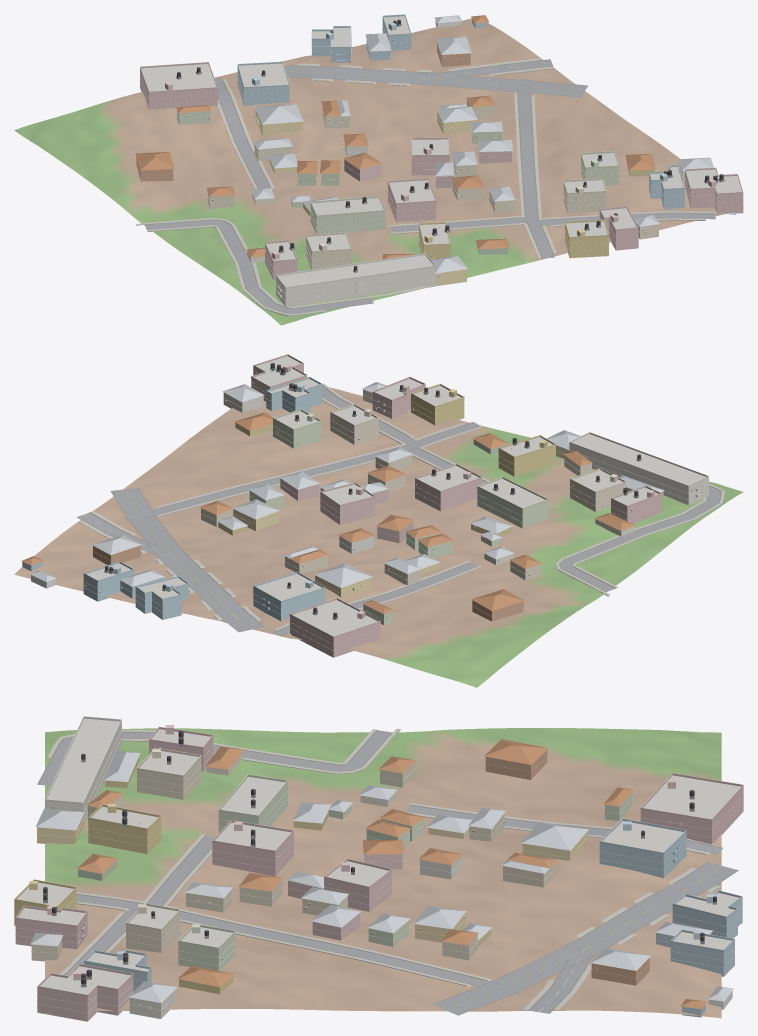
The picture shows the model from 3 angles, top to bottom: view 1: azimuth 30°, elevation 25°; view 2: azimuth 150°, elevation 25°; view 3: azimuth 270°, elevation 25°; orthographic projection. The views are drawn at different scales.
Parts seen in each view (by area): view 1: Terrain-col, Buildings-col, Roads-col, Details, Sidewalks-col; view 2: Terrain-col, Buildings-col, Roads-col, Details, Sidewalks-col; view 3: Terrain-col, Buildings-col, Roads-col, Details, Sidewalks-col.
Boxes of the visible parts, left/top/right/bottom form: Terrain-col: left=14, top=18, right=743, bottom=325; Buildings-col: left=135, top=15, right=743, bottom=307; Roads-col: left=145, top=59, right=715, bottom=314; Details: left=136, top=14, right=743, bottom=301; Sidewalks-col: left=135, top=58, right=736, bottom=316; Terrain-col: left=14, top=387, right=743, bottom=687; Buildings-col: left=21, top=356, right=708, bottom=657; Roads-col: left=76, top=386, right=721, bottom=636; Details: left=83, top=354, right=708, bottom=651; Sidewalks-col: left=79, top=383, right=725, bottom=635; Terrain-col: left=45, top=728, right=721, bottom=1018; Buildings-col: left=14, top=718, right=743, bottom=1021; Roads-col: left=37, top=730, right=738, bottom=1015; Details: left=14, top=716, right=743, bottom=1013; Sidewalks-col: left=36, top=728, right=720, bottom=1010.
Size of the model in its own units: 267 by 16.98 by 276.
